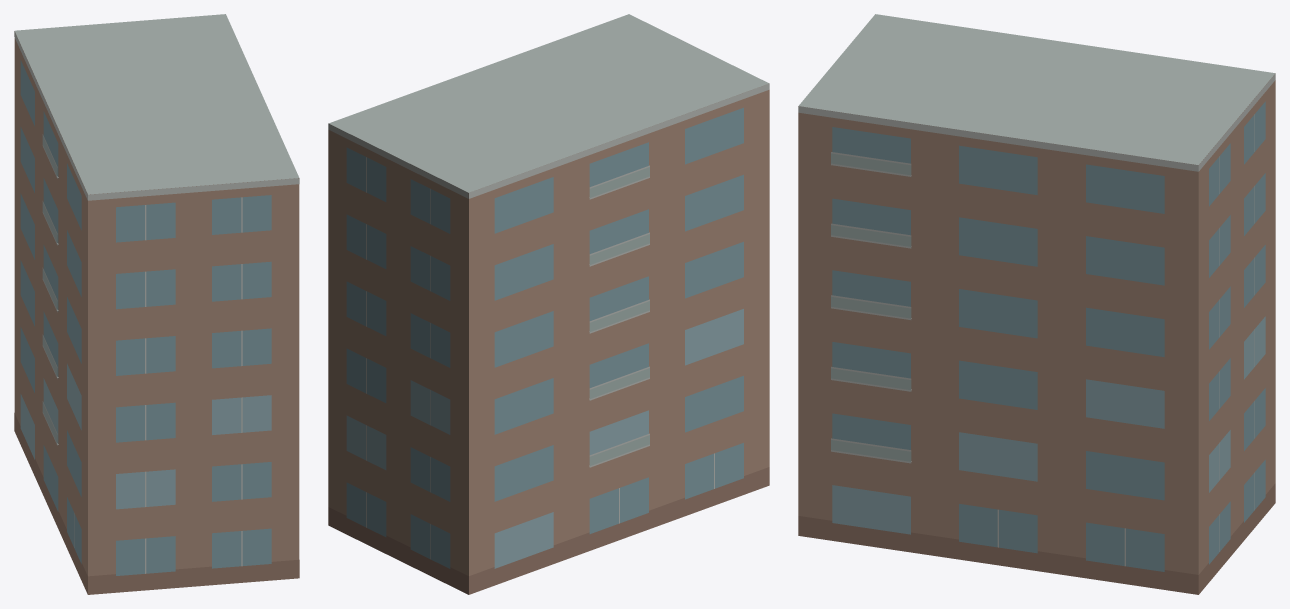
File: survey-upis-32893666.glb
3 views of the same model, side by side, from view 1: azimuth 30°, elevation 25°; view 2: azimuth 150°, elevation 25°; view 3: azimuth 270°, elevation 25° (orthographic). The views are drawn at different scales.
Parts seen in each view (by area): view 1: survey-upis-32893666.tmp; view 2: survey-upis-32893666.tmp; view 3: survey-upis-32893666.tmp.
Part boxes in pixels (x1,y1,x2,y2): survey-upis-32893666.tmp: (14, 14, 299, 594); survey-upis-32893666.tmp: (328, 14, 769, 594); survey-upis-32893666.tmp: (798, 14, 1275, 594).
Bounding box in the file's own units: 11.93 × 15.8 × 15.91.
